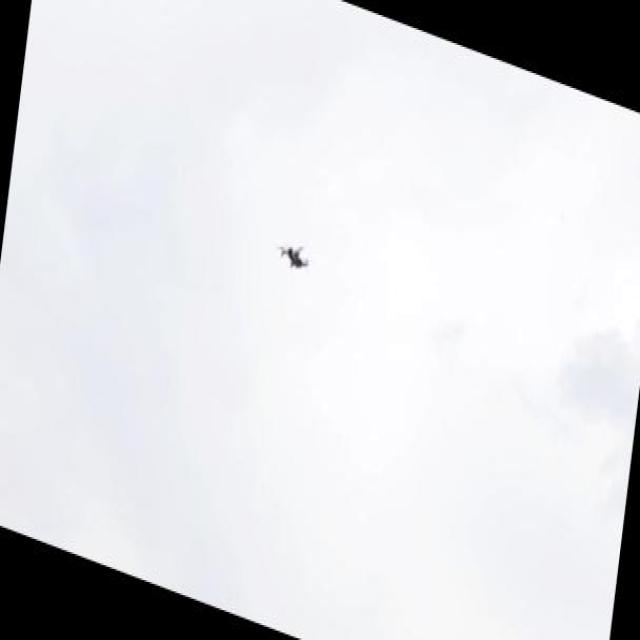drone: (273, 232, 312, 281)
